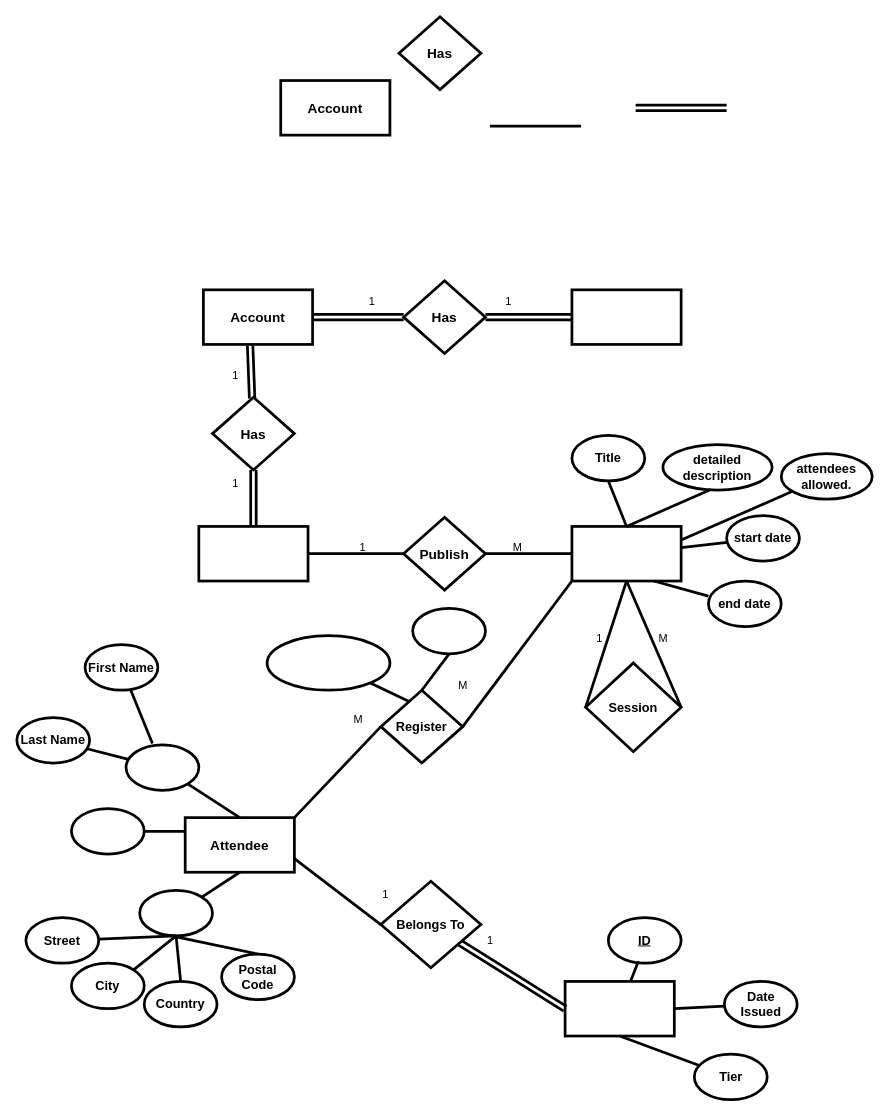
This 889x1117 diagram has some shape labels left out. The centre of each missing label's shape, as x and y in pixels:
Badge: point 619,1008
Email Address: point 107,831
Event: point 626,553
Full Name: point 162,767
Home Address: point 175,913
Organizer: point 253,553
Profile Page: point 626,316
Registeration Date: point 328,662
Short Note: point 448,631
